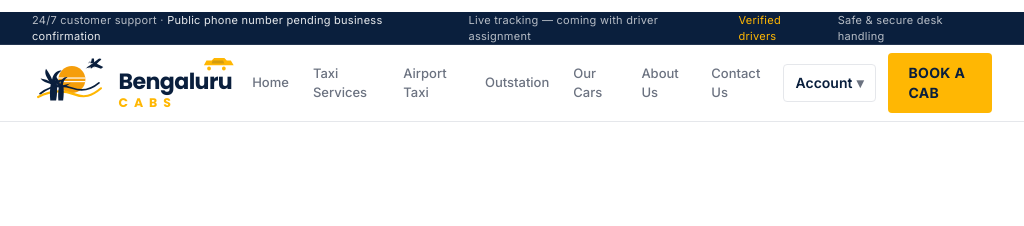
header account logout › keeps the session when logout fails
Click the button "Account ▾".
click(829, 83)  # box [782,64,876,102]
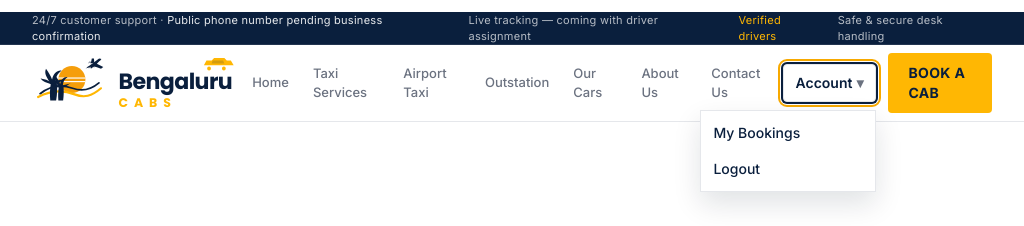
Click the menu item "Logout".
click(788, 169)  # box [701,151,875,187]
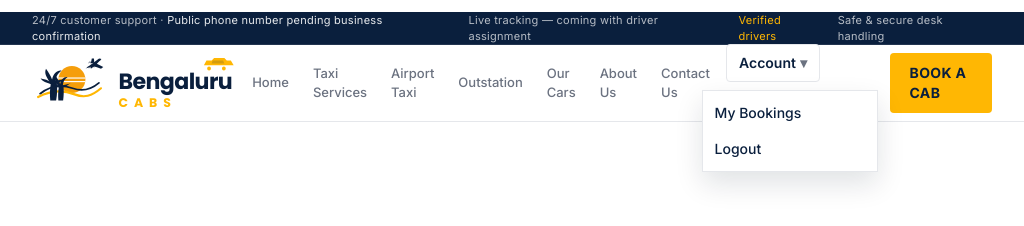
Expected: the button "Account ▾" is shown, [726,44,820,82]
Now the message reads "Please try again. You are still signed in.", box [726,90,866,121]
